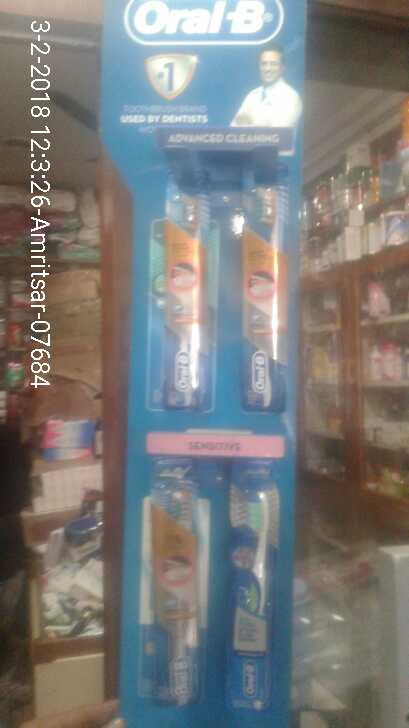oralb: (158, 181, 213, 418), (224, 465, 274, 714), (239, 178, 293, 408), (153, 467, 200, 705)
